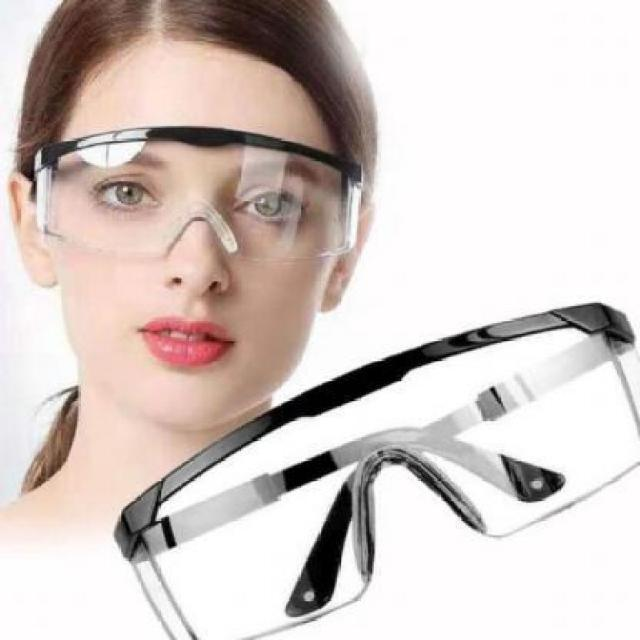Goggles: (20, 120, 383, 276)
